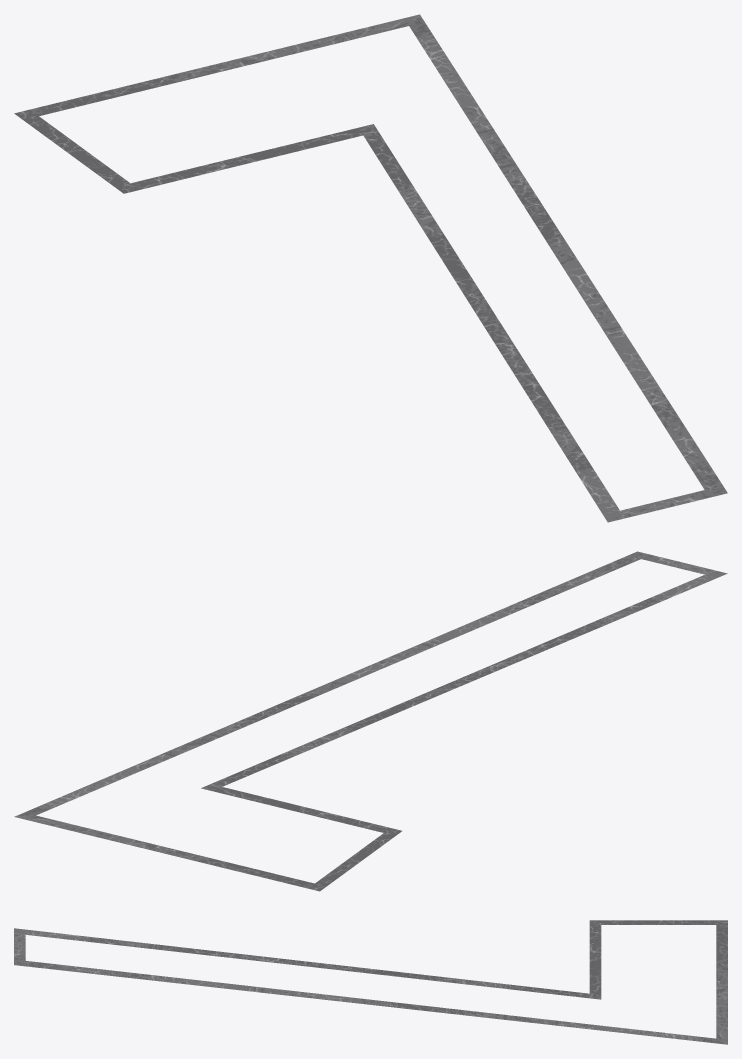
The model's file is 7-border.gltf.
3 renders of one model, top to bottom at view 1: azimuth 30°, elevation 25°; view 2: azimuth 150°, elevation 25°; view 3: azimuth 270°, elevation 25°, orthographic. The views are drawn at different scales.
Parts seen in each view (by area): view 1: 7-border; view 2: 7-border; view 3: 7-border.
Part boxes in pixels (bbox=[...]): 7-border: bbox=[14, 14, 727, 522]; 7-border: bbox=[14, 551, 727, 891]; 7-border: bbox=[14, 920, 727, 1044].
Bounding box in the file's own units: 7.68 × 0 × 18.6.
